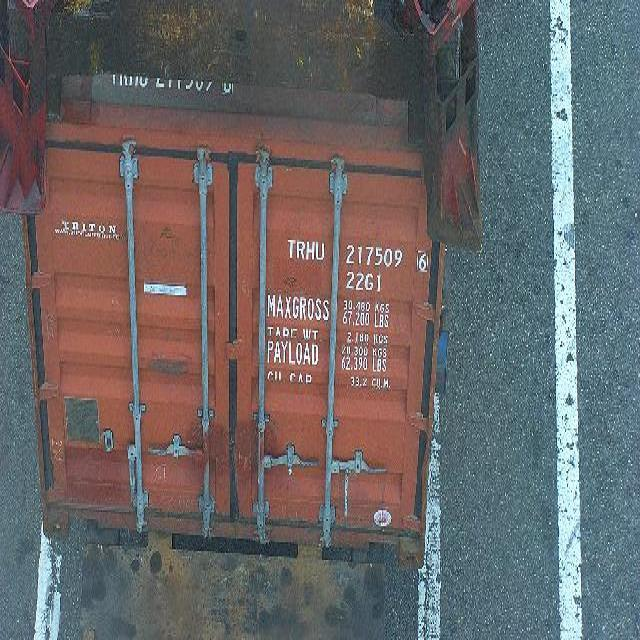ISO: (344, 273, 384, 292)
container_number: (285, 228, 433, 272)
